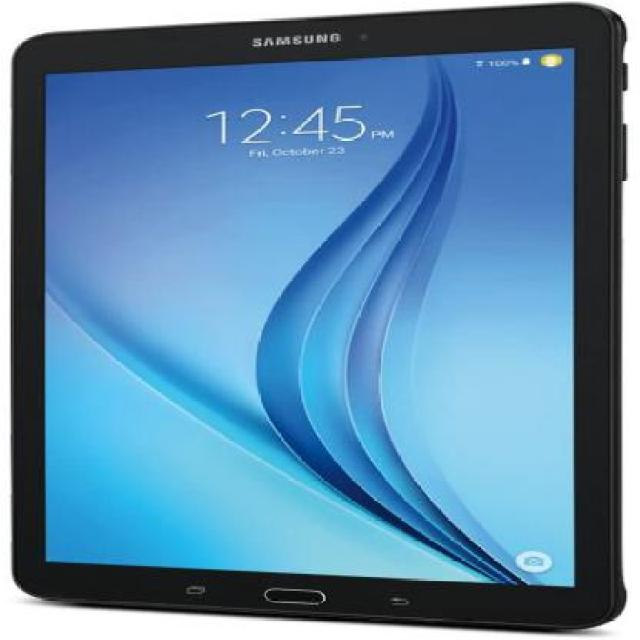tablet: (3, 0, 640, 631)
